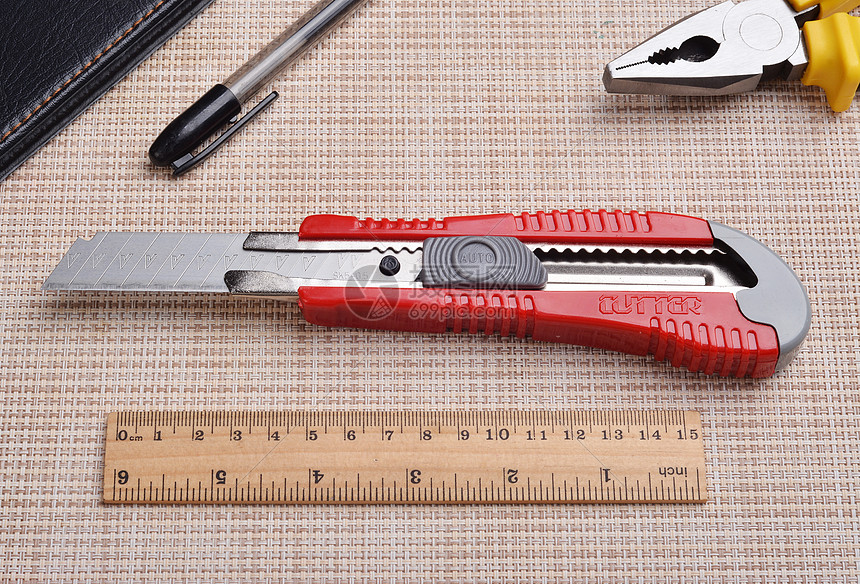cutter: (39, 210, 817, 377)
